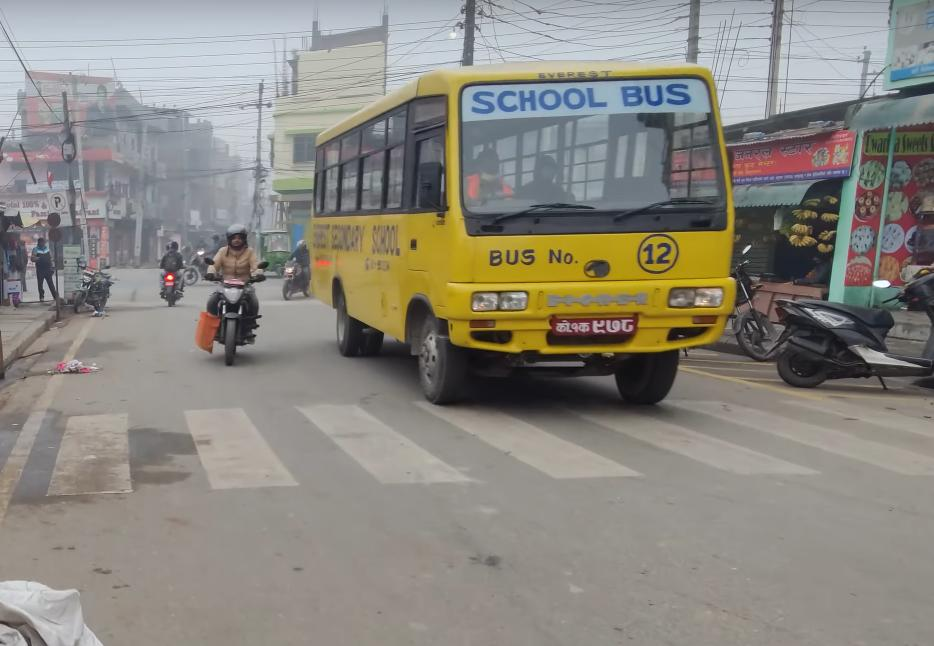bike: (198, 252, 270, 368), (71, 260, 117, 318), (158, 257, 186, 308)
school_bus: (301, 58, 743, 410)
scooter: (768, 270, 934, 386)
